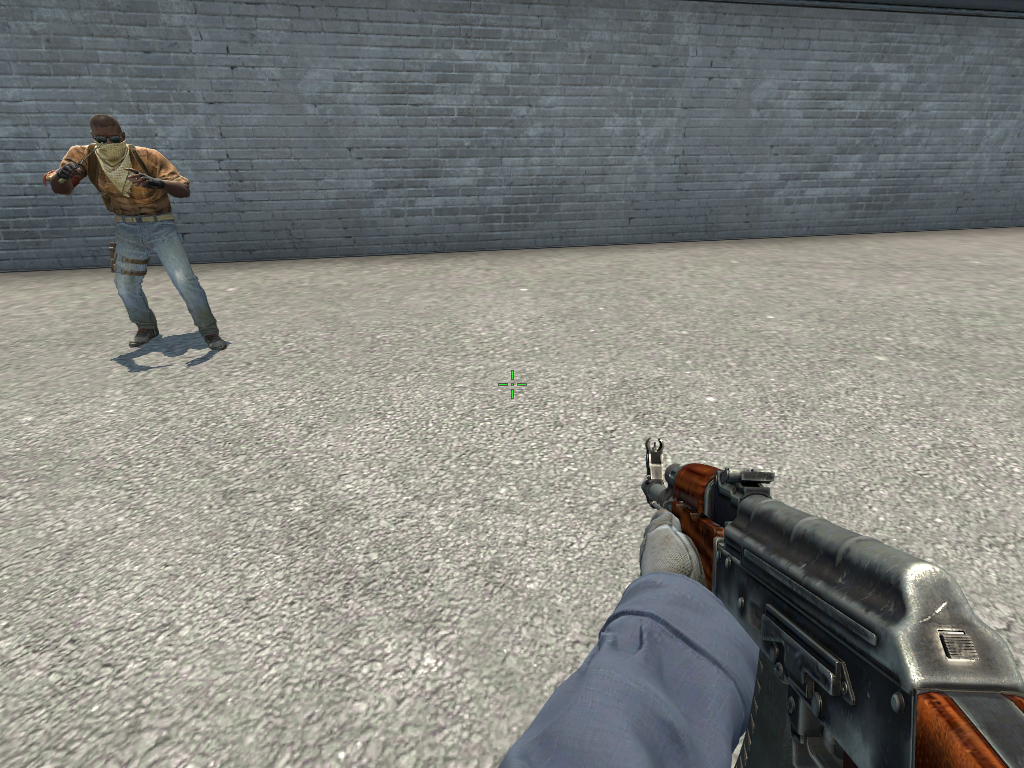tr head: (87, 111, 128, 161)
